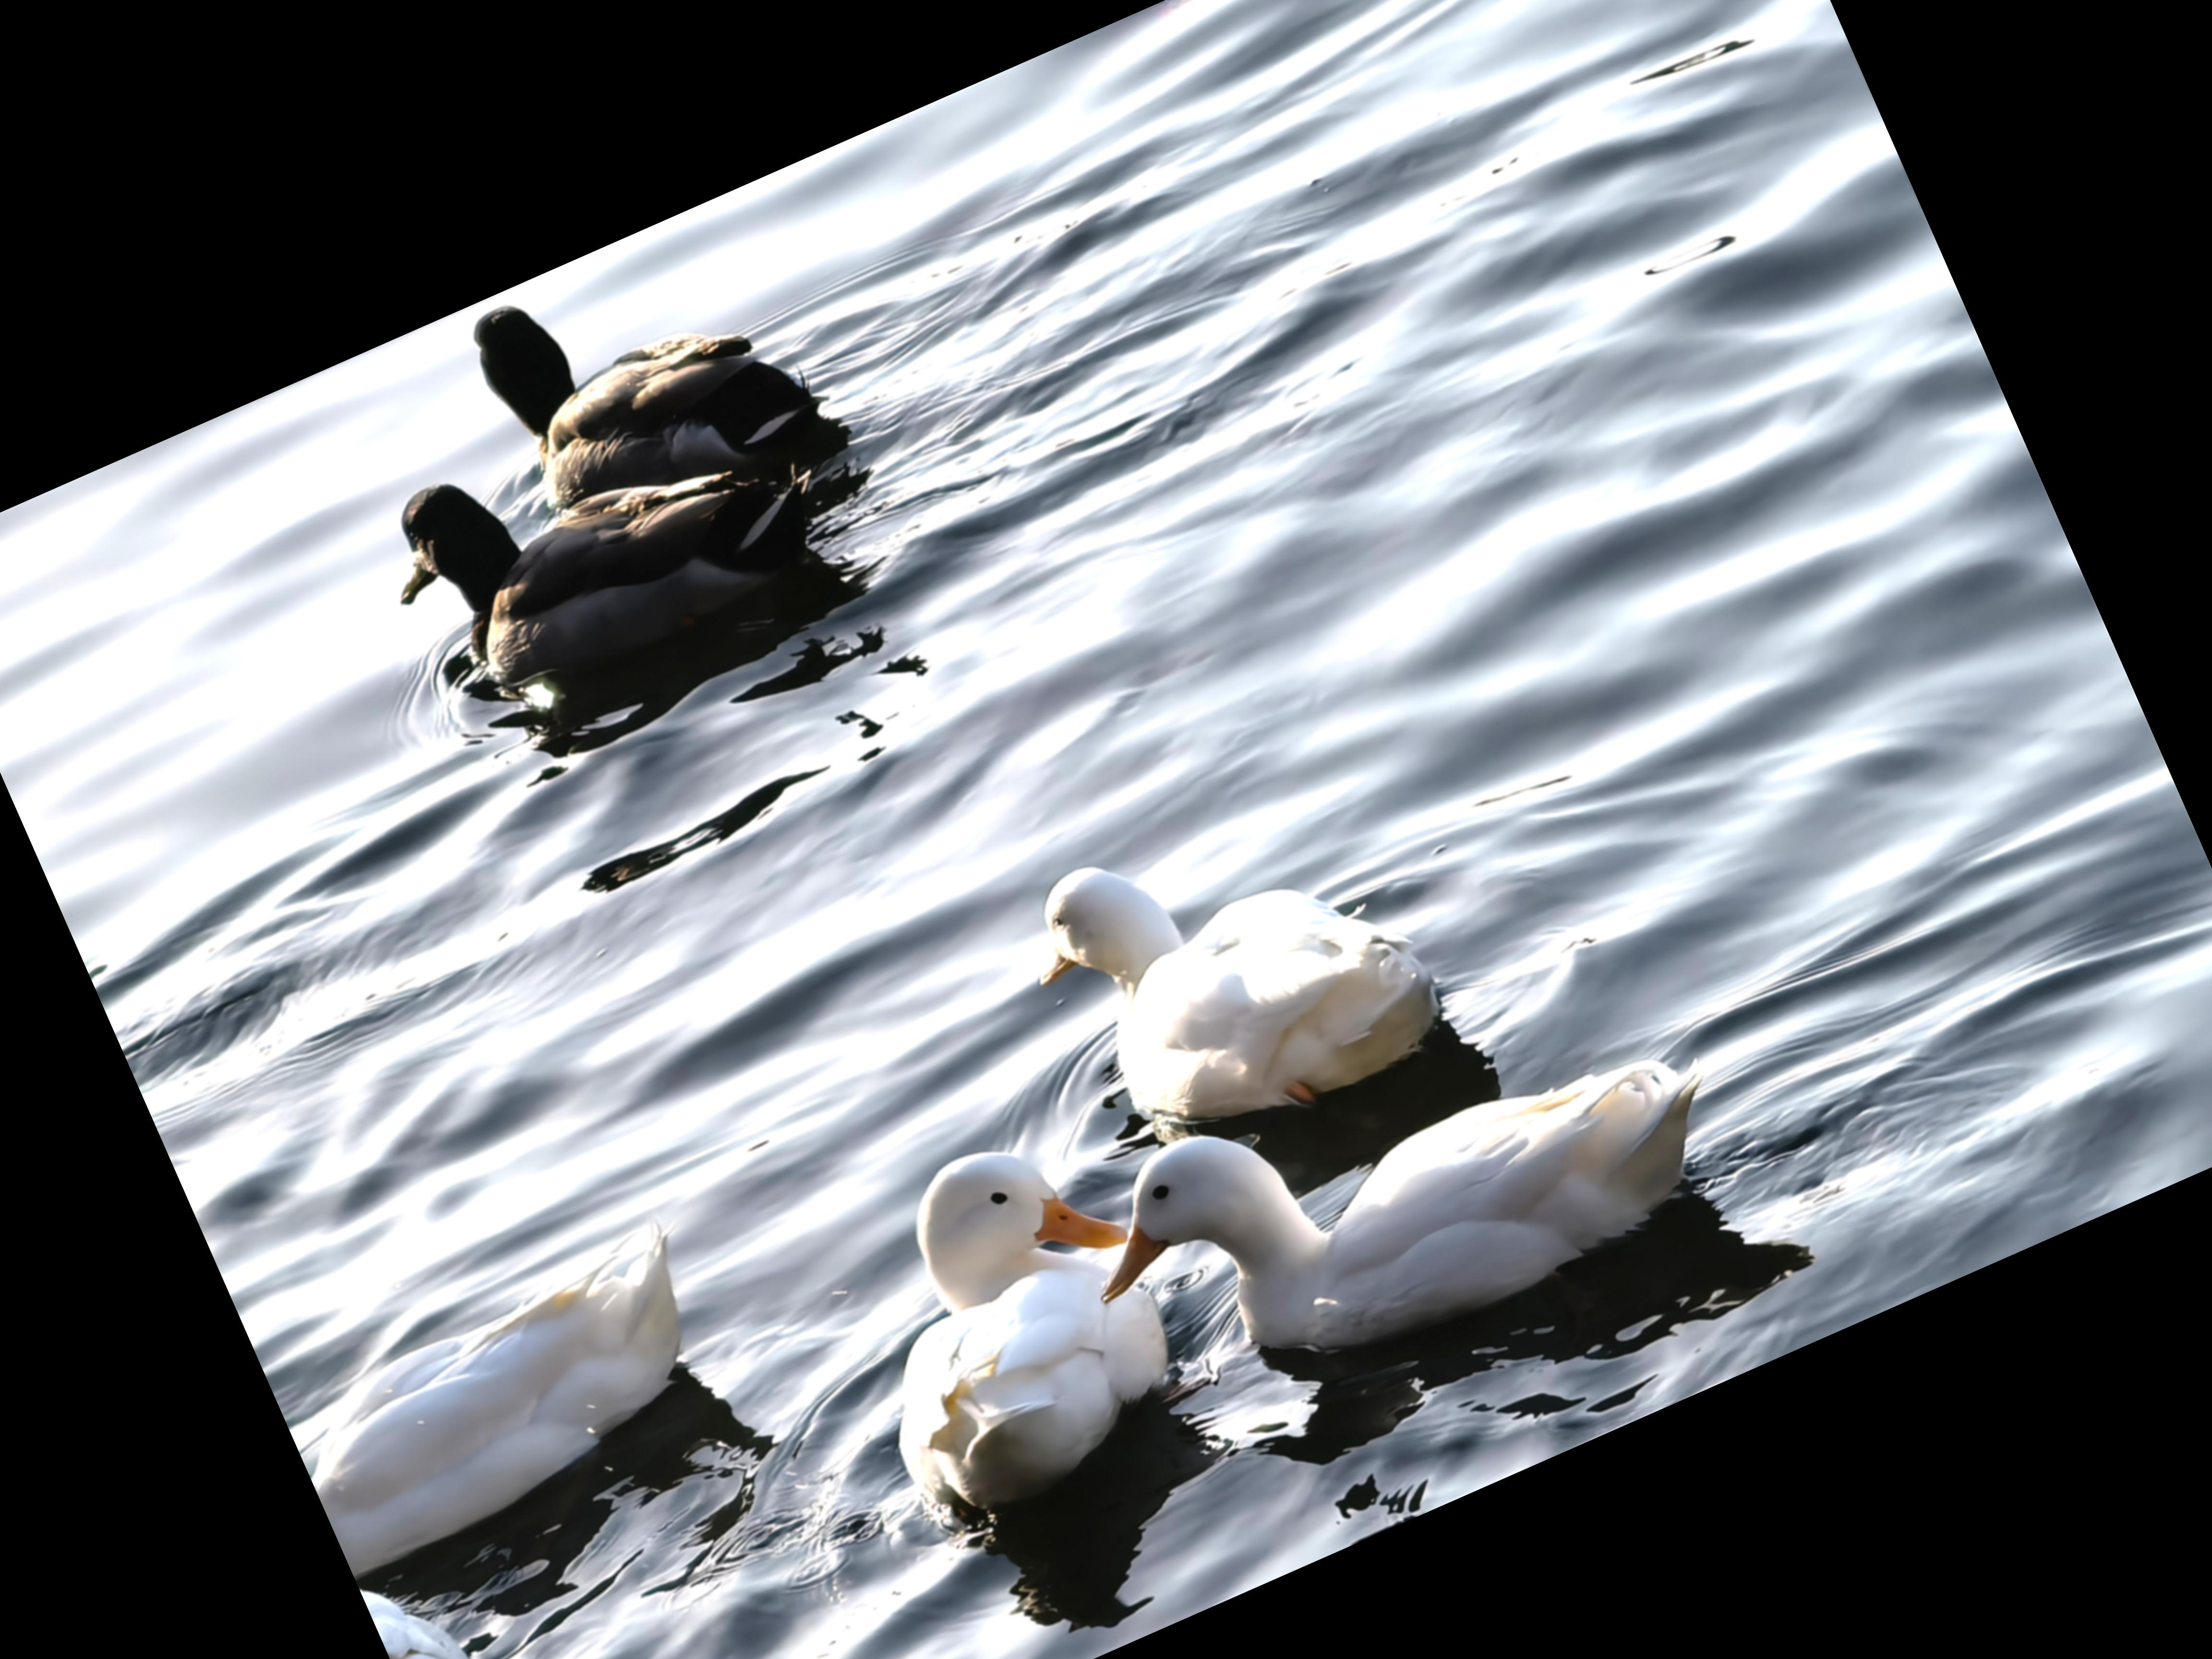duck: (1052, 906, 1815, 1486), (333, 314, 909, 807), (946, 709, 1501, 1211), (260, 1182, 761, 1581), (792, 1082, 1212, 1534), (415, 185, 850, 568)
